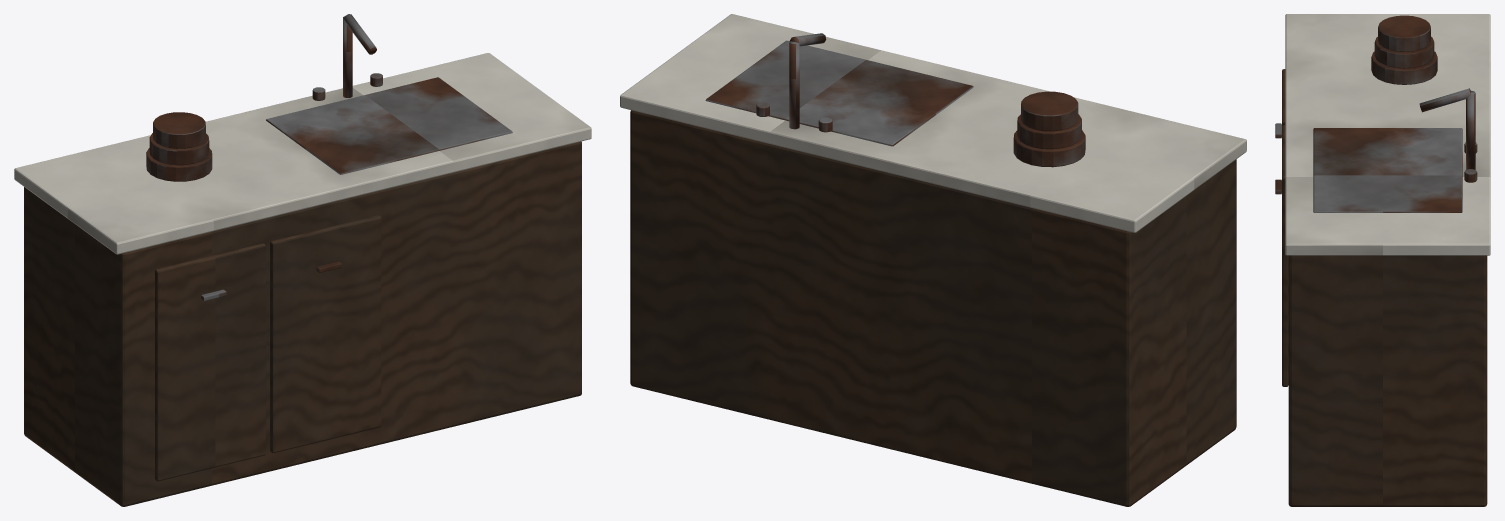
Rendered from K03_kitchen_sink_counter.glb.
3 views of the same model, side by side, from view 1: azimuth 30°, elevation 25°; view 2: azimuth 150°, elevation 25°; view 3: azimuth 270°, elevation 25° (orthographic). The views are drawn at different scales.
Visible parts, largest first — view 1: K03_kitchen_sink_counter; view 2: K03_kitchen_sink_counter; view 3: K03_kitchen_sink_counter.
Boxes of the visible parts, left/top/right/bottom form: K03_kitchen_sink_counter: left=14, top=14, right=591, bottom=506; K03_kitchen_sink_counter: left=620, top=14, right=1246, bottom=506; K03_kitchen_sink_counter: left=1275, top=14, right=1490, bottom=506.
Size of the model in its own units: 1.6 by 1.13 by 0.6303.
4 materials, 4 textured.
